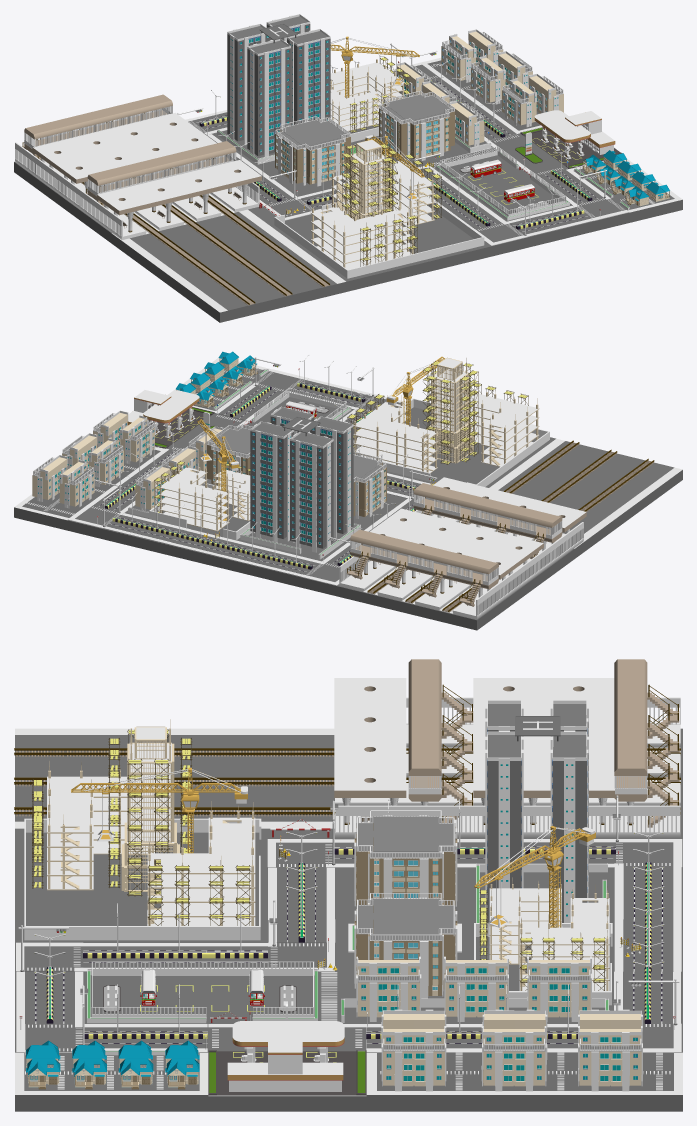
File: mumbai_city-v1.glb
3 renders of one model, top to bottom at view 1: azimuth 30°, elevation 25°; view 2: azimuth 150°, elevation 25°; view 3: azimuth 270°, elevation 25°, orthographic. The views are drawn at different scales.
Parts seen in each view (by area): view 1: city:city:polySurface9962_city:city:city1:kharghar_station:l (×3), city:city:city1:pCube1_city:city:city1:Autumn_House1:Autumn_ (×2), city:city:city1:polySurface794_city:city:city1:construction_ (×8), city:city:polySurface9842_city:city:city1:city_of_dreams1:la (×4), city:city:polySurface9952_city:city:city1:city_of_dreams1:la (×2), city:polySurface155, city:city:city1:pCube7_city:city:city1:city_of_dreams:lamber, city:city:city1:polySurface8886_city:city:city1:construction (×2), city:city:city1:polySurface9134_city:city:city1:construction (×2), polySurface75_city:city:city1:Autumn_House:Autumn_House:Autu (×2), polySurface74_city:city:city1:Autumn_House:Autumn_House:Autu (×2), city:polySurface6_city:city:city1:Autumn_House1:Autumn_House (+26 smaller); view 2: city:city:polySurface9962_city:city:city1:kharghar_station:l (×3), city:city:city1:pCube1_city:city:city1:Autumn_House1:Autumn_ (×2), city:city:city1:polySurface794_city:city:city1:construction_ (×8), city:city:polySurface9952_city:city:city1:city_of_dreams1:la (×4), city:city:city1:polySurface8886_city:city:city1:construction (×2), city:city:polySurface9842_city:city:city1:city_of_dreams1:la (×2), city:polySurface155, city:city:city1:polySurface9134_city:city:city1:construction (×2), city:city:city1:pCube7_city:city:city1:city_of_dreams:lamber, city:city:city1:pCube1, city:city:city1:polySurface11105_city:city:city1:Autumn_Hous (×2), polySurface75 (+31 smaller); view 3: city:city:city1:pCube1_city:city:city1:Autumn_House1:Autumn_ (×2), city:city:polySurface9962_city:city:city1:kharghar_station:l (×3), city:city:city1:polySurface794_city:city:city1:construction_ (×10), city:polySurface155, city:city:polySurface9842_city:city:city1:city_of_dreams1:la (×2), city:city:polySurface9952_city:city:city1:city_of_dreams1:la (×2), city:city:city1:polySurface8886_city:city:city1:construction (×3), city:city:city1:pCube1, city:city:city1:pCube7_city:city:city1:city_of_dreams:lamber, polySurface74, city:city:city1:polySurface11106_city:city:city1:Autumn_Hous (×3), polySurface75 (+53 smaller).
Part boxes in pixels (x1,y1,x2,y2): city:city:polySurface9962_city:city:city1:kharghar_station:l (×3): (15,94,314,284); city:city:city1:pCube1_city:city:city1:Autumn_House1:Autumn_ (×2): (14,57,682,322); city:city:city1:polySurface794_city:city:city1:construction_ (×8): (310,135,441,269); city:city:polySurface9842_city:city:city1:city_of_dreams1:la (×4): (247,29,330,156); city:city:polySurface9952_city:city:city1:city_of_dreams1:la (×2): (227,14,310,145); city:polySurface155: (486,110,622,173); city:city:city1:pCube7_city:city:city1:city_of_dreams:lamber: (274,196,484,278); city:city:city1:polySurface8886_city:city:city1:construction (×2): (330,59,404,107); city:city:city1:polySurface9134_city:city:city1:construction (×2): (330,82,386,131); polySurface75_city:city:city1:Autumn_House:Autumn_House:Autu (×2): (379,104,454,158); polySurface74_city:city:city1:Autumn_House:Autumn_House:Autu (×2): (275,129,350,184); city:polySurface6_city:city:city1:Autumn_House1:Autumn_House: (440,146,566,216); city:city:polySurface9962_city:city:city1:kharghar_station:l (×3): (339,452,617,619); city:city:city1:pCube1_city:city:city1:Autumn_House1:Autumn_ (×2): (14,358,682,630); city:city:city1:polySurface794_city:city:city1:construction_ (×8): (347,356,539,472); city:city:polySurface9952_city:city:city1:city_of_dreams1:la (×4): (250,421,333,552); city:city:city1:polySurface8886_city:city:city1:construction (×2): (159,459,229,531); city:city:polySurface9842_city:city:city1:city_of_dreams1:la (×2): (270,406,353,537); city:polySurface155: (134,390,248,448); city:city:city1:polySurface9134_city:city:city1:construction (×2): (214,465,250,520); city:city:city1:pCube7_city:city:city1:city_of_dreams:lamber: (353,398,549,486); city:city:city1:pCube1: (22,449,160,517); city:city:city1:polySurface11105_city:city:city1:Autumn_Hous (×2): (194,355,257,407); polySurface75: (207,424,252,458); city:city:city1:pCube1_city:city:city1:Autumn_House1:Autumn_ (×2): (15,728,682,1111); city:city:polySurface9962_city:city:city1:kharghar_station:l (×3): (174,659,680,837); city:city:city1:polySurface794_city:city:city1:construction_ (×10): (32,719,255,925); city:polySurface155: (208,1021,366,1096); city:city:polySurface9842_city:city:city1:city_of_dreams1:la (×2): (485,699,523,922); city:city:polySurface9952_city:city:city1:city_of_dreams1:la (×2): (550,699,588,922); city:city:city1:polySurface8886_city:city:city1:construction (×3): (519,884,609,990); city:city:city1:pCube1: (377,1053,673,1090); city:city:city1:pCube7_city:city:city1:city_of_dreams:lamber: (24,818,261,940); polySurface74: (356,810,455,860); city:city:city1:polySurface11106_city:city:city1:Autumn_Hous (×3): (26,1058,199,1088); polySurface75: (356,893,455,940).
Size of the model in its own units: 3.04 by 0.744 by 2.33.
